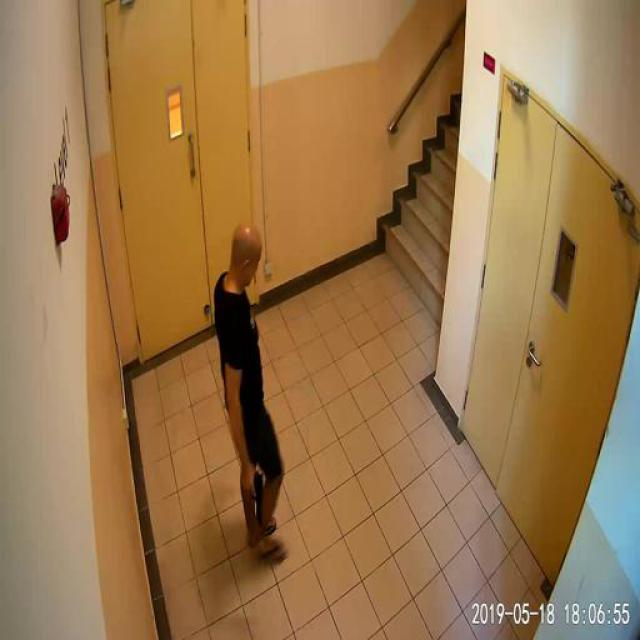gun: (238, 468, 262, 526)
